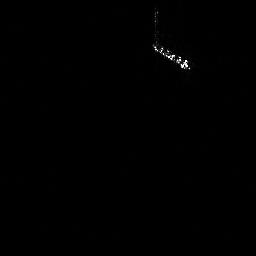ship: (149, 37, 195, 72)
